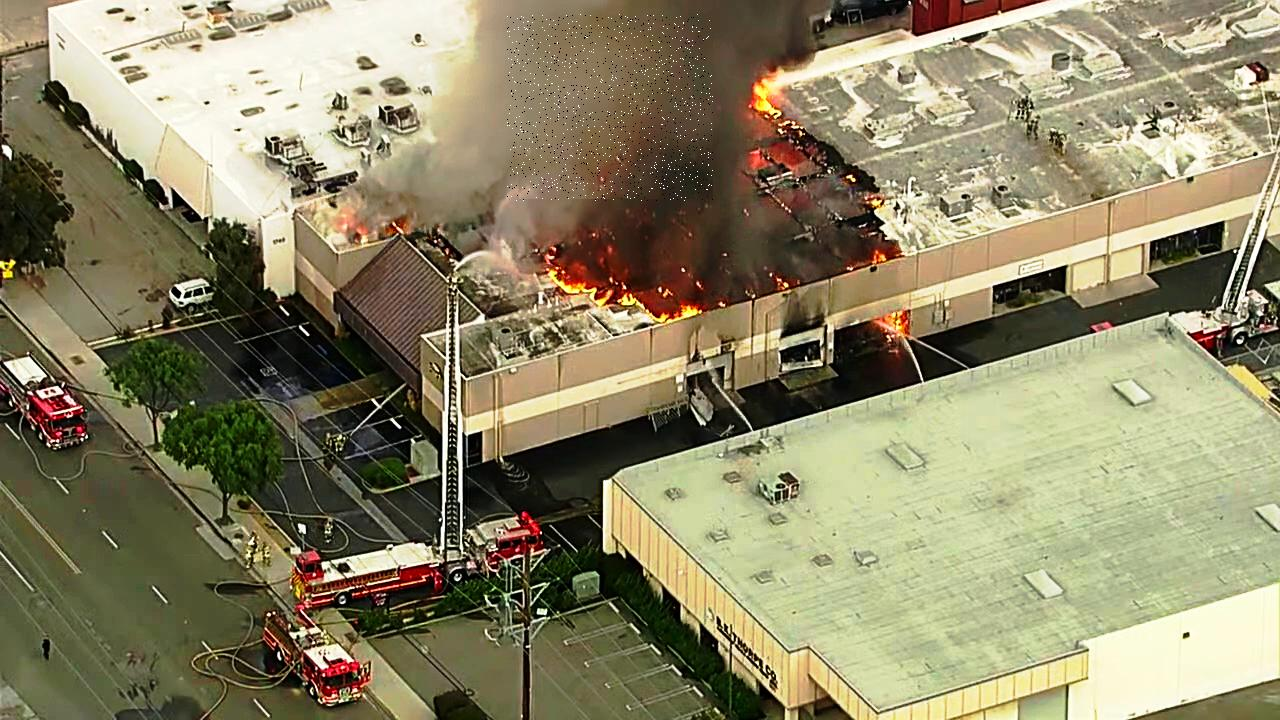smoke: (507, 15, 713, 202)
